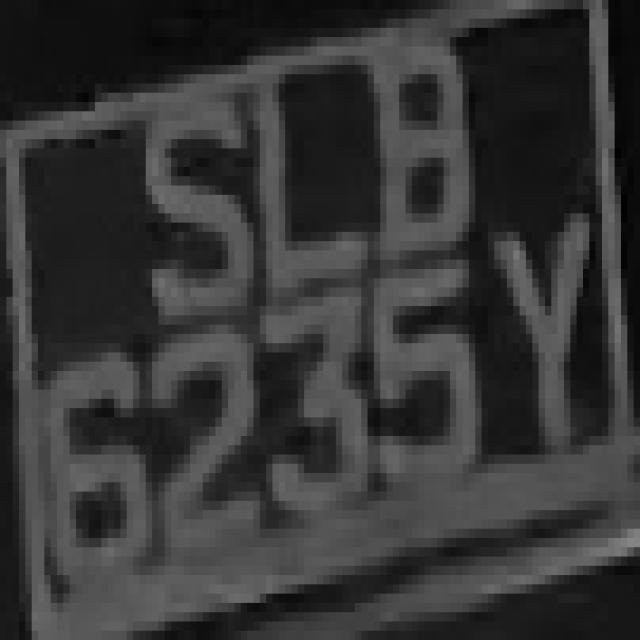2: (152, 306, 273, 575)
3: (254, 269, 386, 557)
5: (349, 241, 494, 538)
6: (32, 324, 158, 622)
B: (348, 10, 482, 278)
L: (234, 56, 374, 306)
S: (120, 56, 241, 362)
Y: (494, 195, 590, 519)
